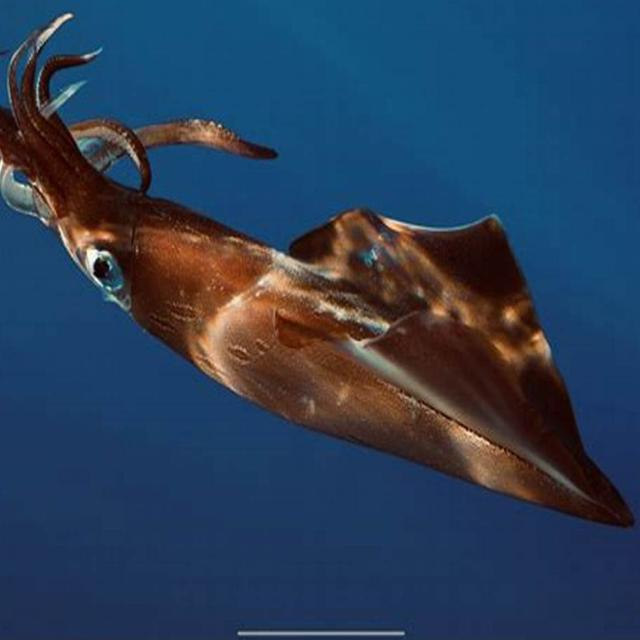SQUID: (0, 13, 640, 538)
